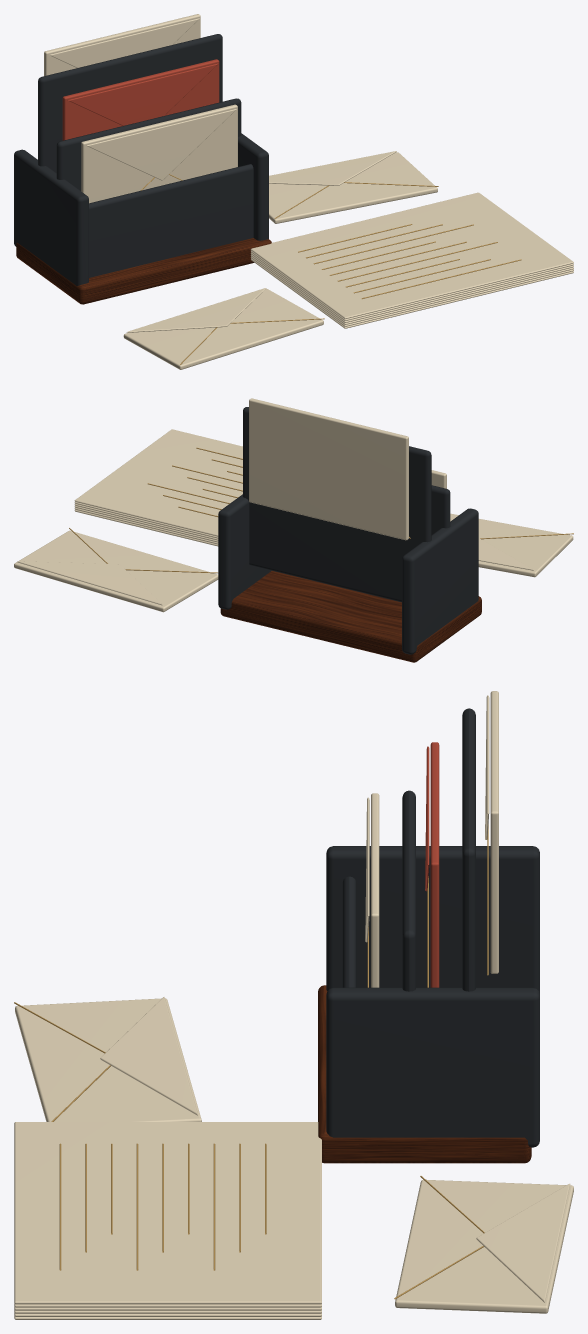
File: estacoes_correspondencia.glb
3 views of the same model, one above another, from view 1: azimuth 30°, elevation 25°; view 2: azimuth 150°, elevation 25°; view 3: azimuth 270°, elevation 25° (orthographic). The views are drawn at different scales.
Parts seen in each view (by area): view 1: correspondencia; view 2: correspondencia; view 3: correspondencia.
Part boxes in pixels (box(x1,y1,x2,y2)): correspondencia: box(14, 14, 573, 369); correspondencia: box(14, 398, 573, 662); correspondencia: box(14, 691, 573, 1319).
Size of the model in its own units: 0.4396 by 0.2185 by 0.3275.
5 materials, 1 textured.
